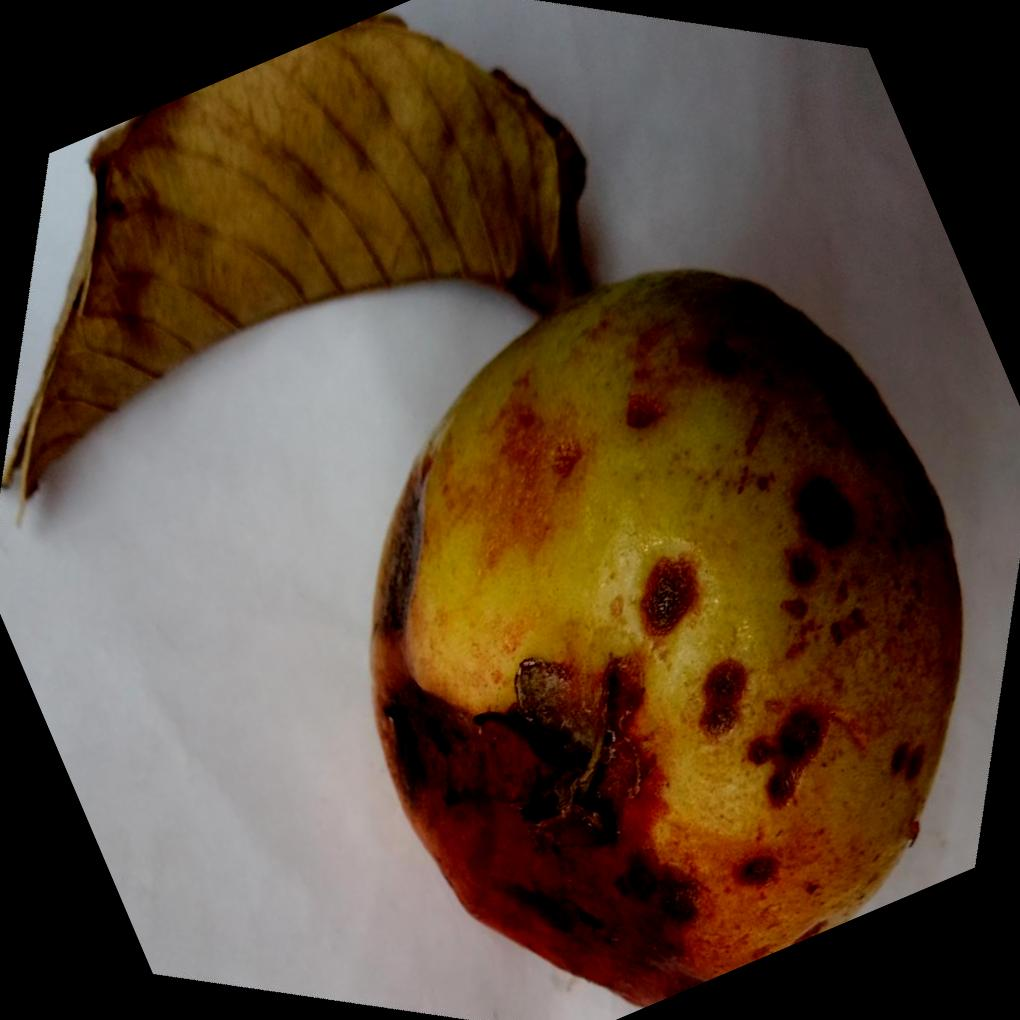FreshOrange: (372, 264, 967, 1008)
